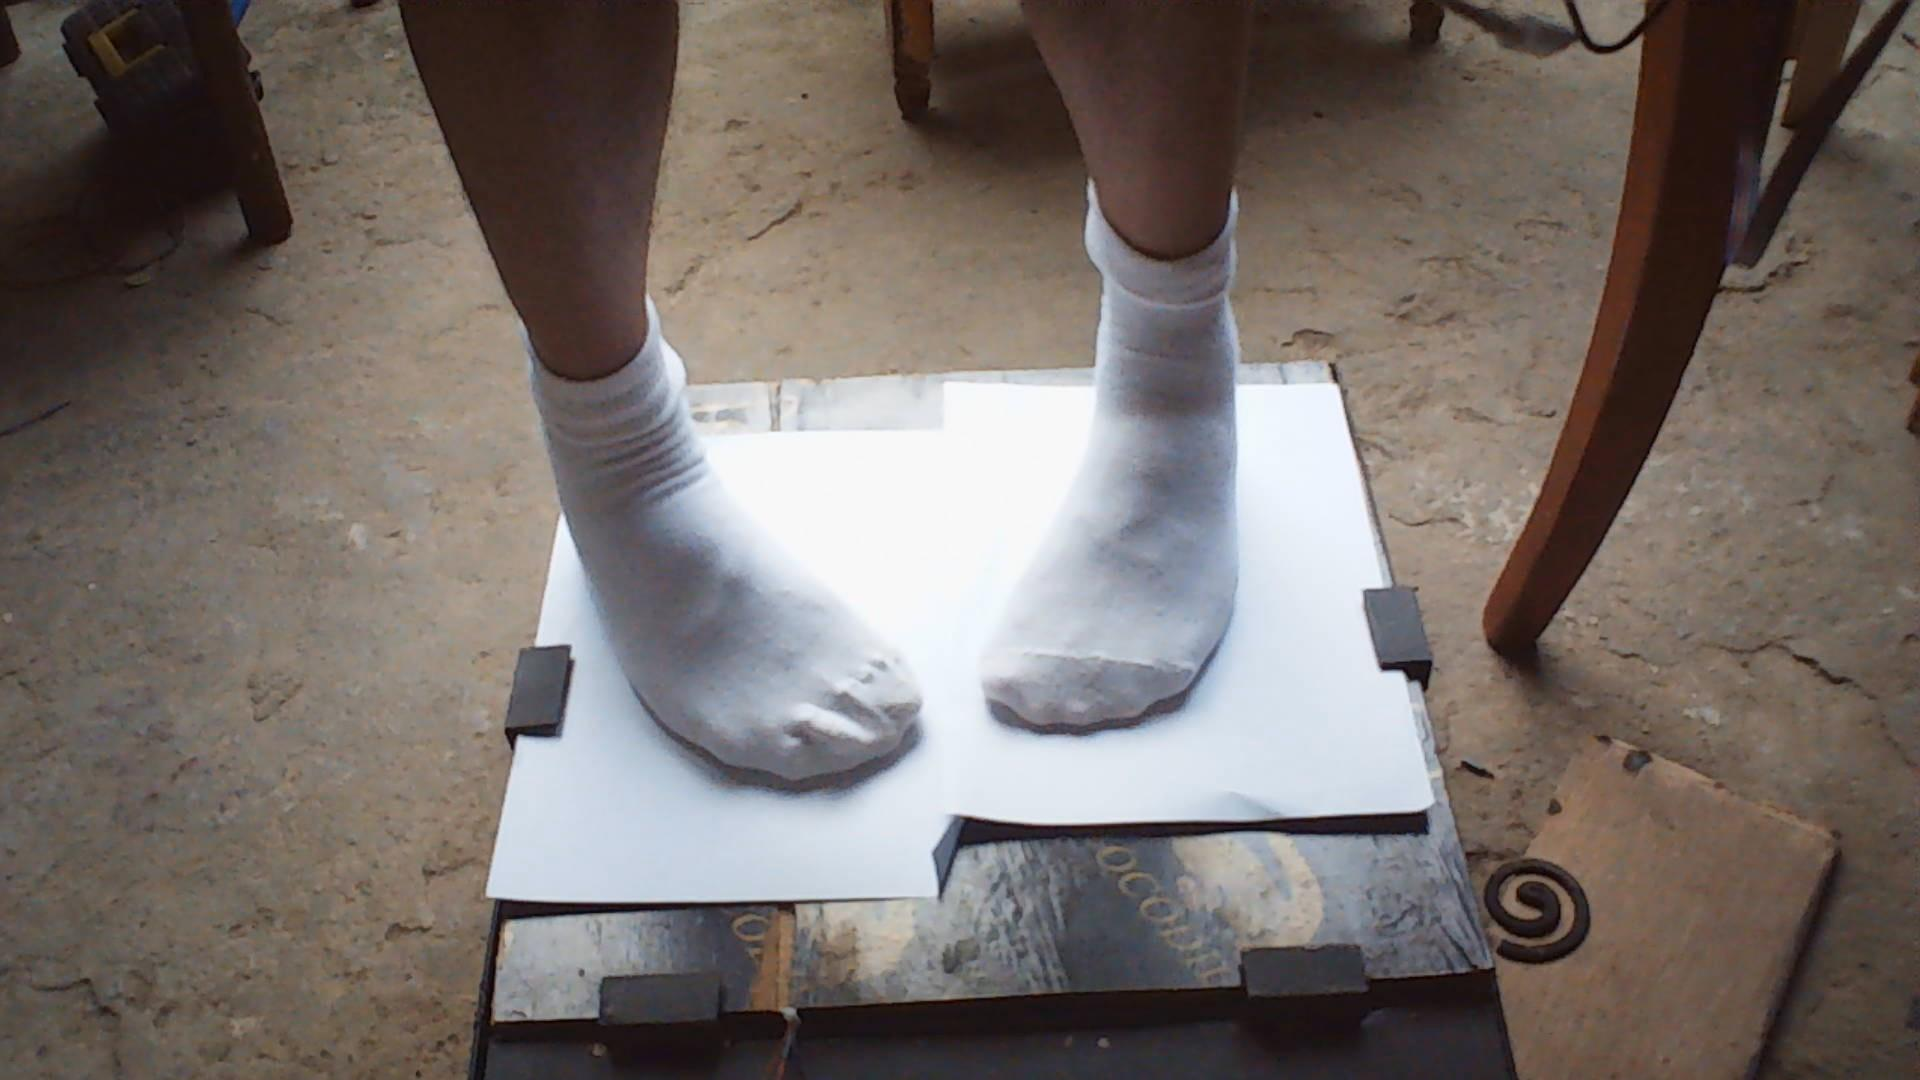white_socks: (400, 0, 920, 781), (982, 0, 1250, 729), (530, 324, 920, 783)
